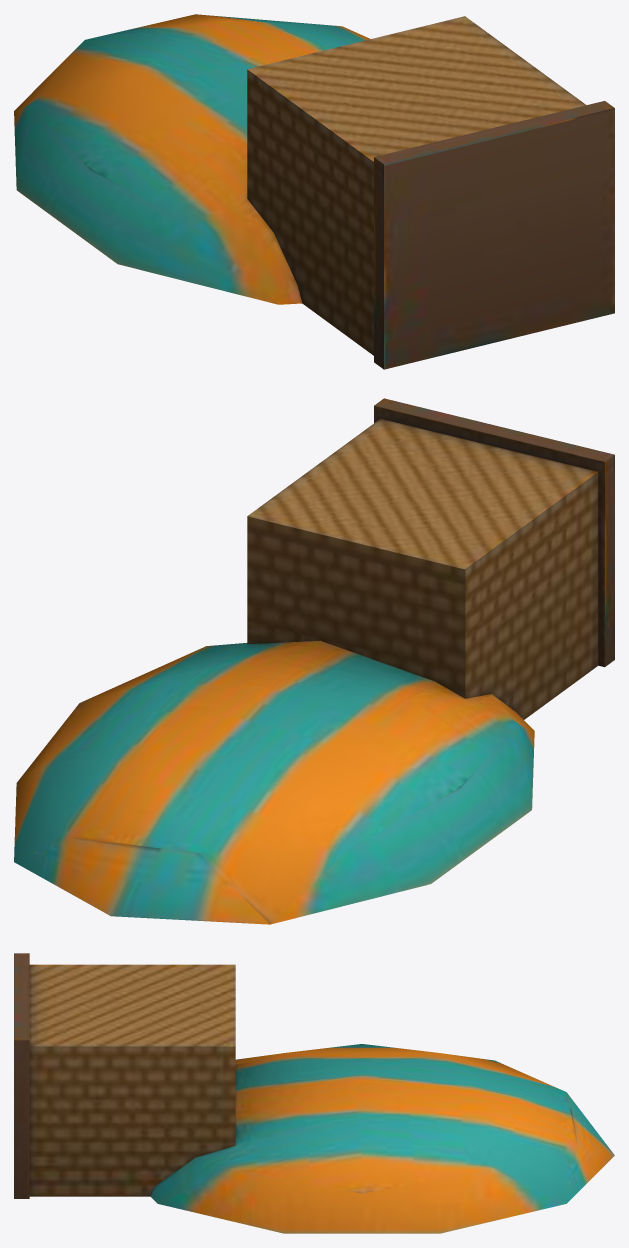
File: cesta_globo.glb
The picture shows the model from 3 angles, top to bottom: view 1: azimuth 30°, elevation 25°; view 2: azimuth 150°, elevation 25°; view 3: azimuth 270°, elevation 25°; orthographic projection. The views are drawn at different scales.
Parts seen in each view (by area): view 1: cesta_globo; view 2: cesta_globo; view 3: cesta_globo.
Part boxes in pixels (left/top/right/bottom): cesta_globo: left=14, top=14, right=614, bottom=369; cesta_globo: left=14, top=398, right=614, bottom=924; cesta_globo: left=14, top=953, right=614, bottom=1233.
Bounding box in the file's own units: 1.9 × 0.9 × 3.09.
Materials: 1 (1 with a texture image).
